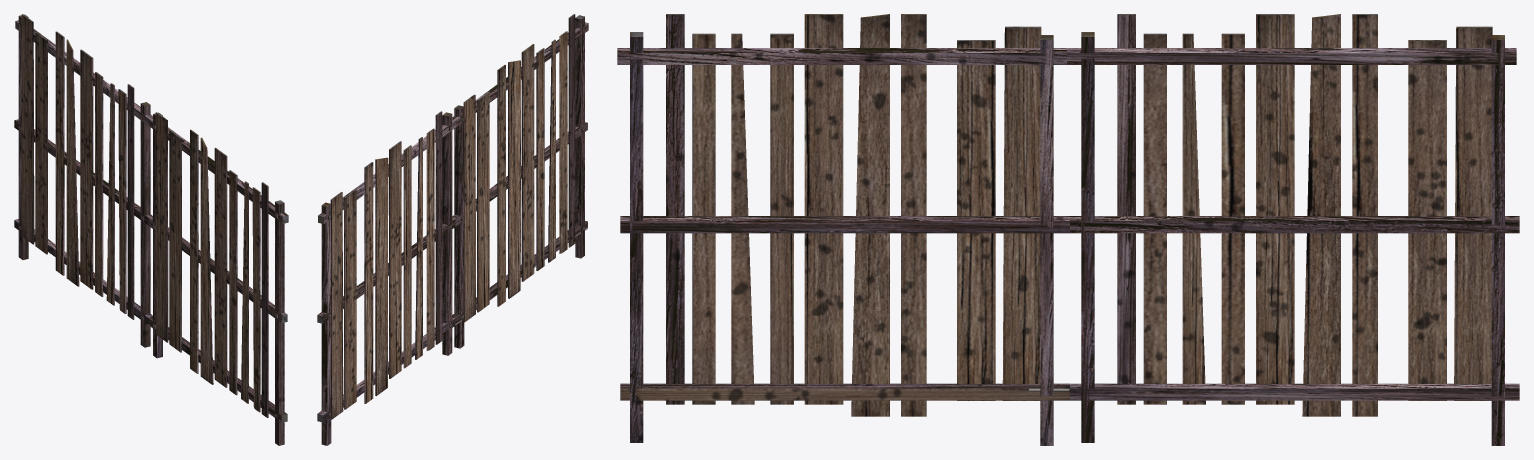
Rendered from wood_fence.glb.
3 views of the same model, side by side, from view 1: azimuth 30°, elevation 25°; view 2: azimuth 150°, elevation 25°; view 3: azimuth 270°, elevation 25° (orthographic). The views are drawn at different scales.
Visible parts, largest first — view 1: Cube; view 2: Cube; view 3: Cube.
Part boxes in pixels (x1,y1,x2,y2): Cube: [14, 14, 288, 445]; Cube: [317, 14, 588, 445]; Cube: [617, 14, 1519, 445].
Bounding box in the file's own units: 36.37 × 880 × 1688.
1 material, 1 textured.
